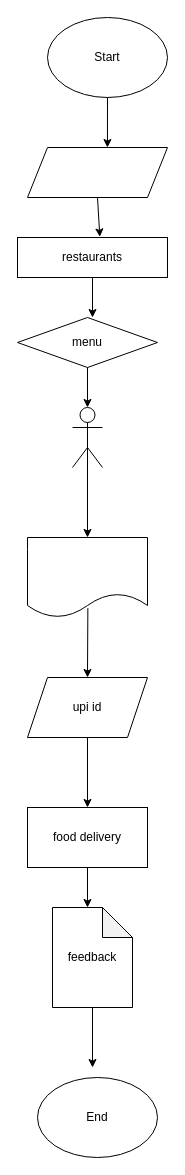
The diagram is 185 pixels wide and 1175 high, and some of its shapes have lost their labels. The centre of each missing label's shape, as x and y in pixels:
"Actor" goes at (87,437).
"Bill" goes at (87,577).
"login" goes at (97,172).
